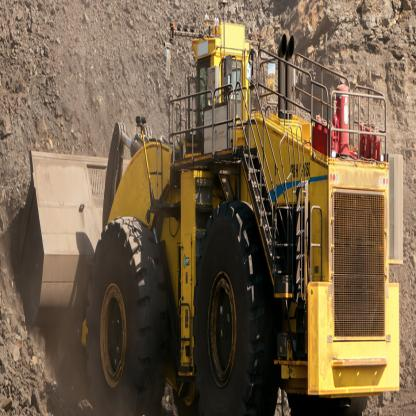bull_dozer/loader/grader: (14, 17, 410, 415)
